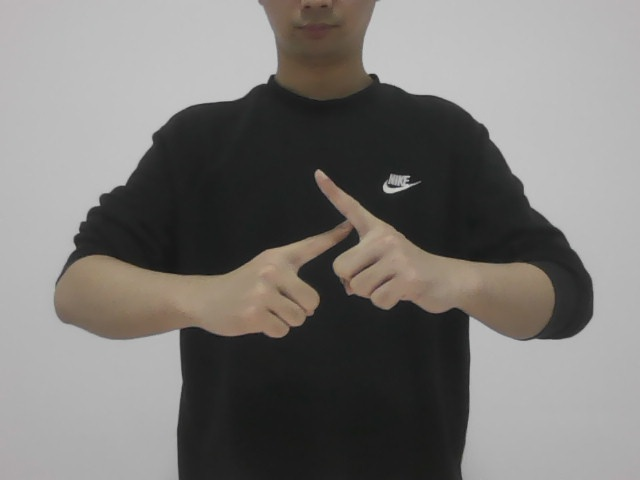peason: (207, 160, 425, 345)
